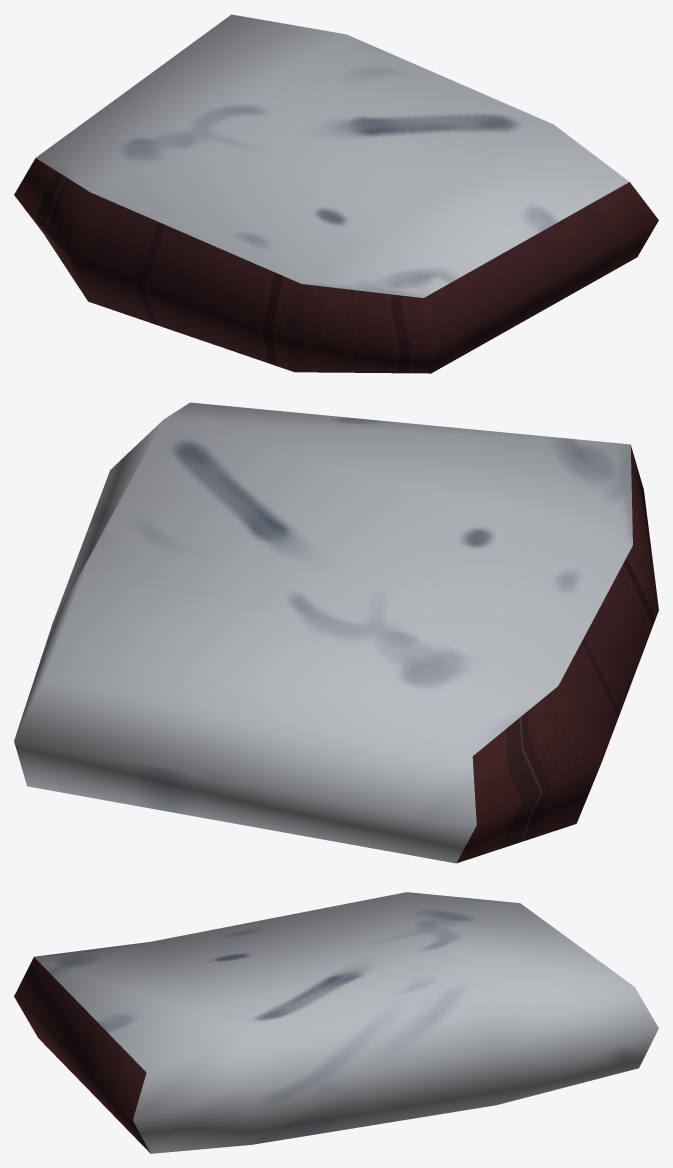
File: Travesseiro.fbx
3 views of the same model, one above another, from view 1: azimuth 30°, elevation 25°; view 2: azimuth 150°, elevation 25°; view 3: azimuth 270°, elevation 25° (orthographic). The views are drawn at different scales.
Parts seen in each view (by area): view 1: Travesseiro; view 2: Travesseiro; view 3: Travesseiro.
Boxes of the visible parts, <box> form: Travesseiro: <box>14,14,658,373</box>; Travesseiro: <box>14,402,658,863</box>; Travesseiro: <box>14,892,658,1153</box>.
Bounding box in the file's own units: 110 × 142 × 36.56.
